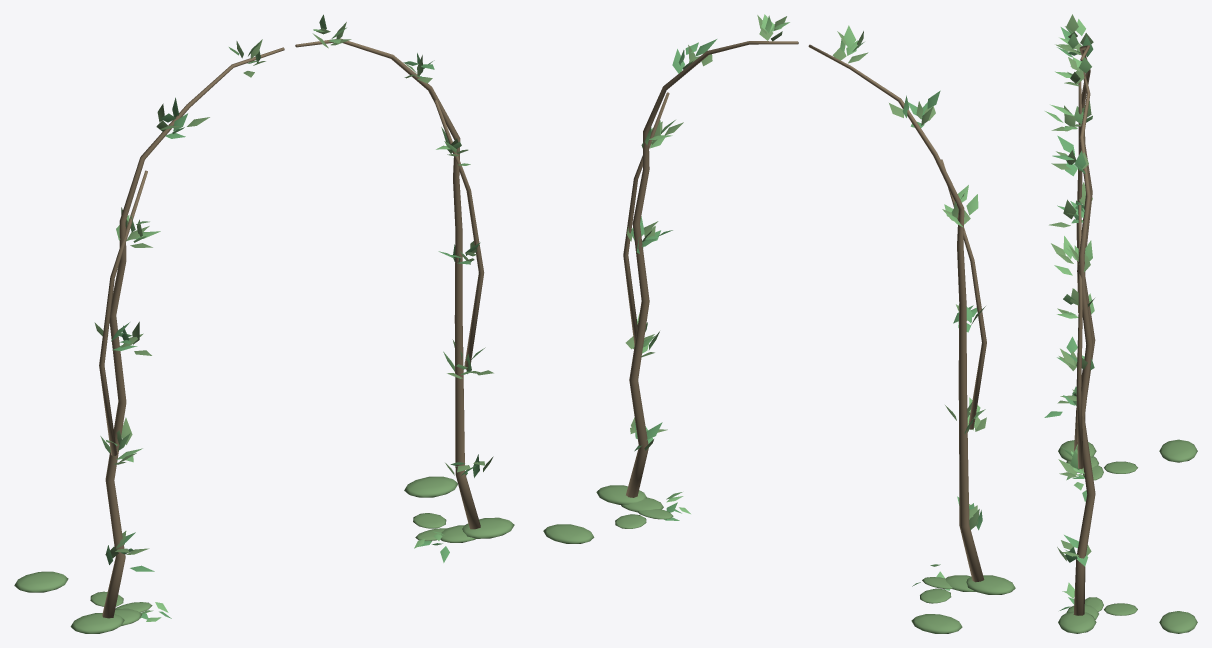
Rendered from door_trim_to_forest.glb.
The picture shows the model from 3 angles, left to right: view 1: azimuth 30°, elevation 25°; view 2: azimuth 150°, elevation 25°; view 3: azimuth 270°, elevation 25°; orthographic projection. The views are drawn at different scales.
Parts seen in each view (by area): view 1: IvyVineMain_-1, IvyVineMain_1, IvyVineSub_-1, IvyVineSub_1, JambMossAnchor_-1_1, JambMossAnchor_1_1, JambMossAnchor_-1_-1, JambMossAnchor_1_-1, IvyLeaves_-1_4; view 2: IvyVineMain_-1, IvyVineMain_1, IvyVineSub_1, IvyVineSub_-1, JambMossAnchor_1_1, JambMossAnchor_-1_1, IvyLeaves_-1_4, JambMossAnchor_-1_-1; view 3: IvyVineMain_1, IvyVineSub_1, IvyVineMain_-1, JambMossAnchor_-1_1, IvyLeaves_1_4, JambMossAnchor_1_1, IvyLeaves_1_3, JambMossAnchor_1_-1, IvyLeaves_-1_3, IvyLeaves_-1_2, IvyLeaves_-1_5, IvyLeaves_1_5 (+10 smaller).
Boxes of the visible parts, <box> form: IvyVineMain_-1: <box>102,47,284,618</box>; IvyVineMain_1: <box>295,38,480,529</box>; IvyVineSub_-1: <box>99,170,147,455</box>; IvyVineSub_1: <box>434,99,484,369</box>; JambMossAnchor_-1_1: <box>14,571,68,592</box>; JambMossAnchor_1_1: <box>404,476,457,497</box>; JambMossAnchor_-1_-1: <box>70,613,124,633</box>; JambMossAnchor_1_-1: <box>462,517,514,538</box>; IvyLeaves_-1_4: <box>156,97,209,138</box>; IvyVineMain_-1: <box>808,44,984,582</box>; IvyVineMain_1: <box>626,41,798,497</box>; IvyVineSub_1: <box>623,92,669,345</box>; IvyVineSub_-1: <box>941,159,986,429</box>; JambMossAnchor_1_1: <box>543,524,594,543</box>; JambMossAnchor_-1_1: <box>911,614,962,633</box>; IvyLeaves_-1_4: <box>889,90,940,127</box>; JambMossAnchor_-1_-1: <box>966,575,1015,594</box>; IvyVineMain_1: <box>1073,72,1095,615</box>; IvyVineSub_1: <box>1076,205,1083,468</box>; IvyVineMain_-1: <box>1074,45,1095,450</box>; JambMossAnchor_-1_1: <box>1159,439,1197,462</box>; IvyLeaves_1_4: <box>1051,135,1088,176</box>; JambMossAnchor_1_1: <box>1159,611,1197,633</box>; IvyLeaves_1_3: <box>1051,236,1092,275</box>; JambMossAnchor_1_-1: <box>1058,611,1096,633</box>; IvyLeaves_-1_3: <box>1045,101,1092,131</box>; IvyLeaves_-1_2: <box>1049,182,1092,227</box>; IvyLeaves_-1_5: <box>1055,14,1085,54</box>; IvyLeaves_1_5: <box>1055,57,1091,86</box>.
Size of the model in its own units: 2.54 by 3.16 by 0.8577.
